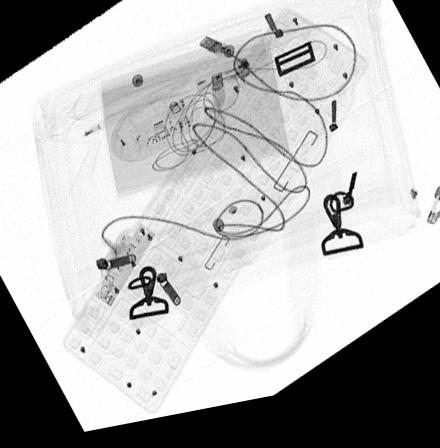Lighter: (193, 65, 250, 104)
